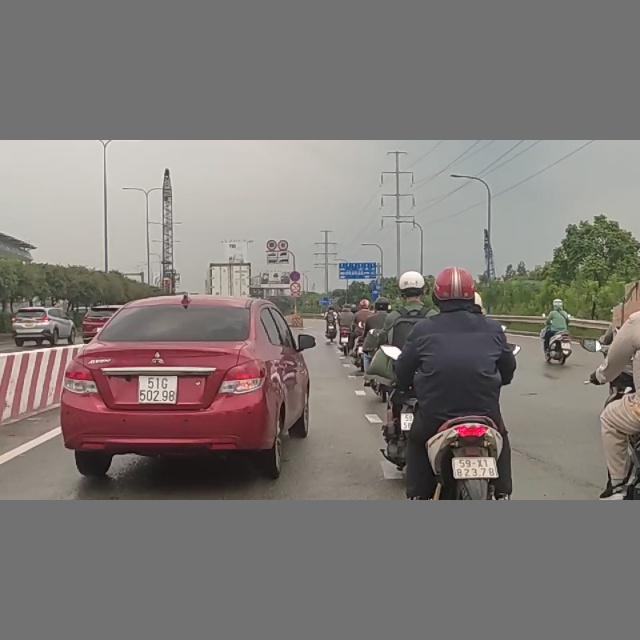P.130: (289, 270, 301, 282)
